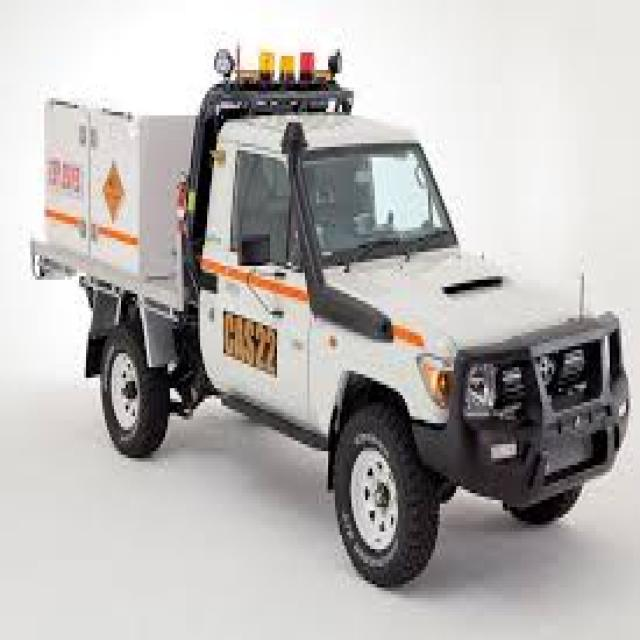light_vehicle: (17, 42, 636, 574)
